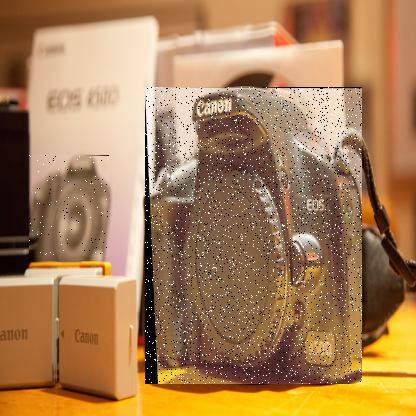Camera: (146, 88, 364, 386), (30, 157, 111, 261)
